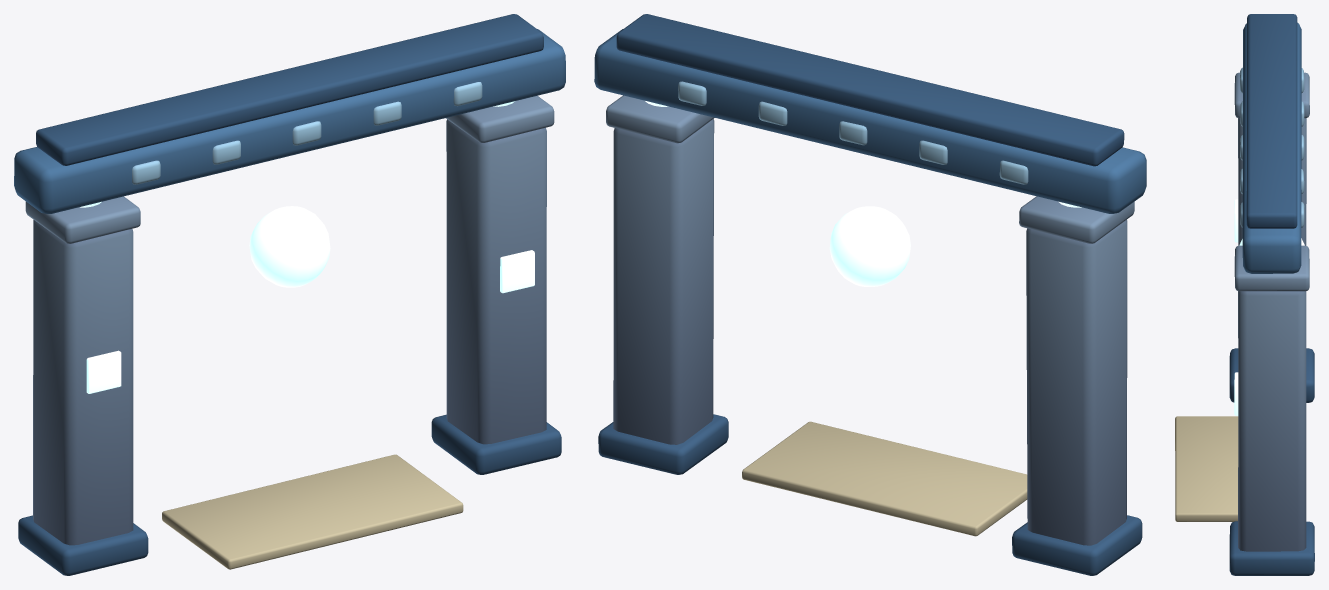
The picture shows the model from 3 angles, left to right: view 1: azimuth 30°, elevation 25°; view 2: azimuth 150°, elevation 25°; view 3: azimuth 270°, elevation 25°; orthographic projection. The views are drawn at different scales.
Parts seen in each view (by area): view 1: gate_06007246; view 2: gate_06007246; view 3: gate_06007246.
Part boxes in pixels (x1,y1,x2,y2): gate_06007246: (14,14,565,575); gate_06007246: (594,14,1146,575); gate_06007246: (1175,14,1314,575).
Bounding box in the file's own units: 5.37 × 4.1 × 1.44.
